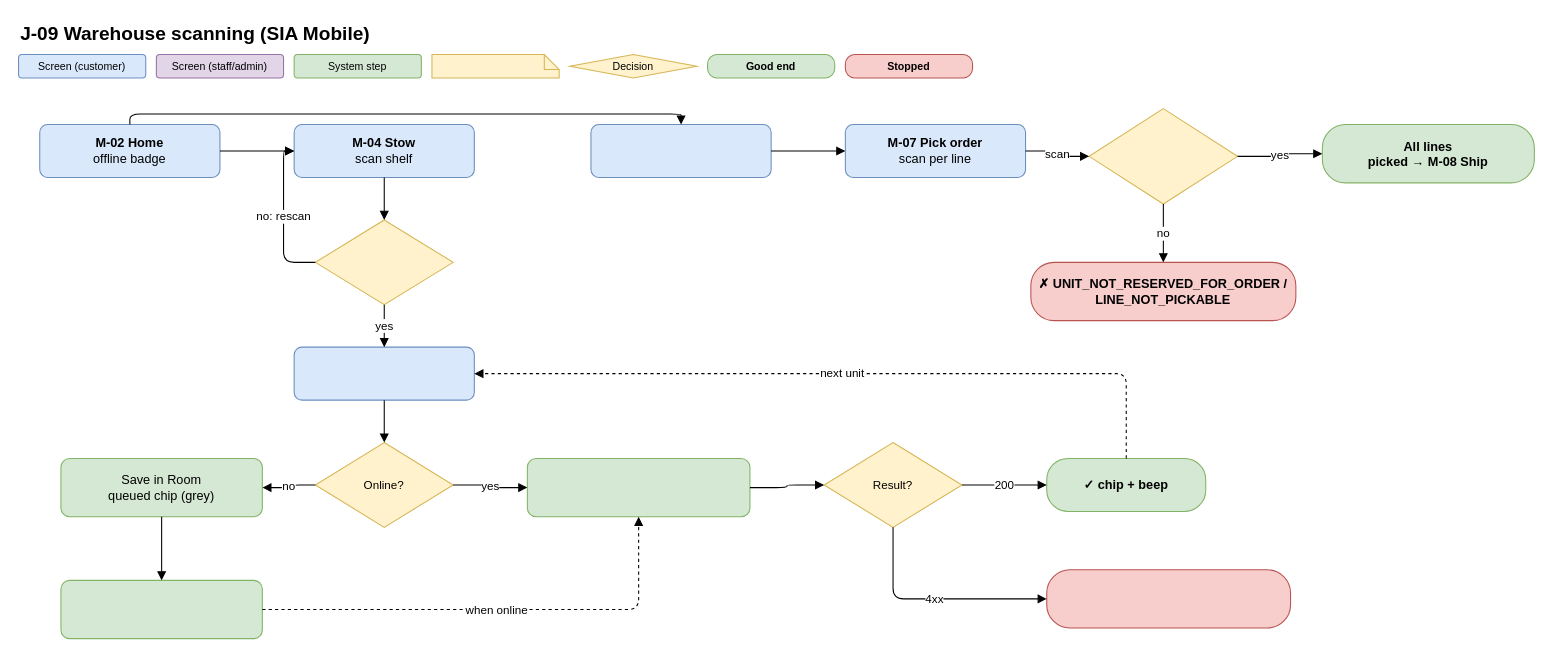
Image size: 1553x657. Some labels were removed from this diagram. Each missing label, with the centre of its shape:
"Email" belongs at [495,66].
"M-06 Orders to pick / ship" belongs at [680,150].
"POST /stow Idempotency-Key = scan id" belongs at [638,487].
"Reserved for this request?" belongs at [1163,156].
"Scan unit" belongs at [383,373].
"Shelf valid?" belongs at [383,262].
"WorkManager sync failures → M-11" belongs at [161,609].
"✗ error chip + vibrate (not found, already stowed)" belongs at [1168,598].
